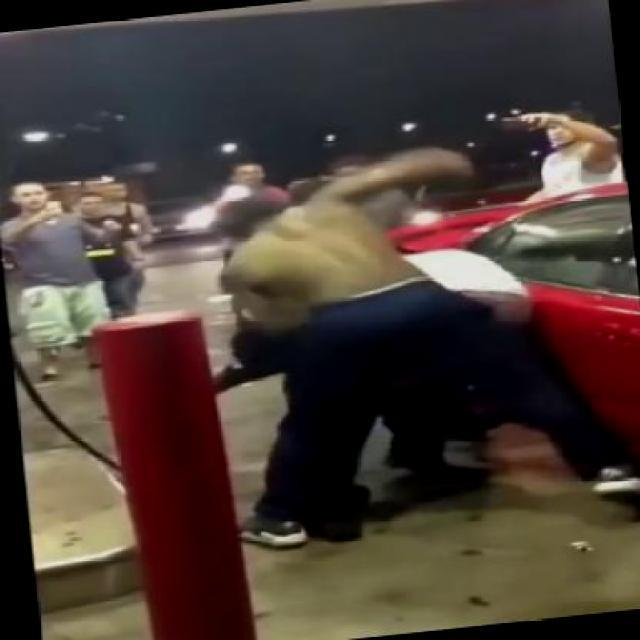fight: (190, 138, 566, 544)
non-fight: (0, 170, 152, 386)
